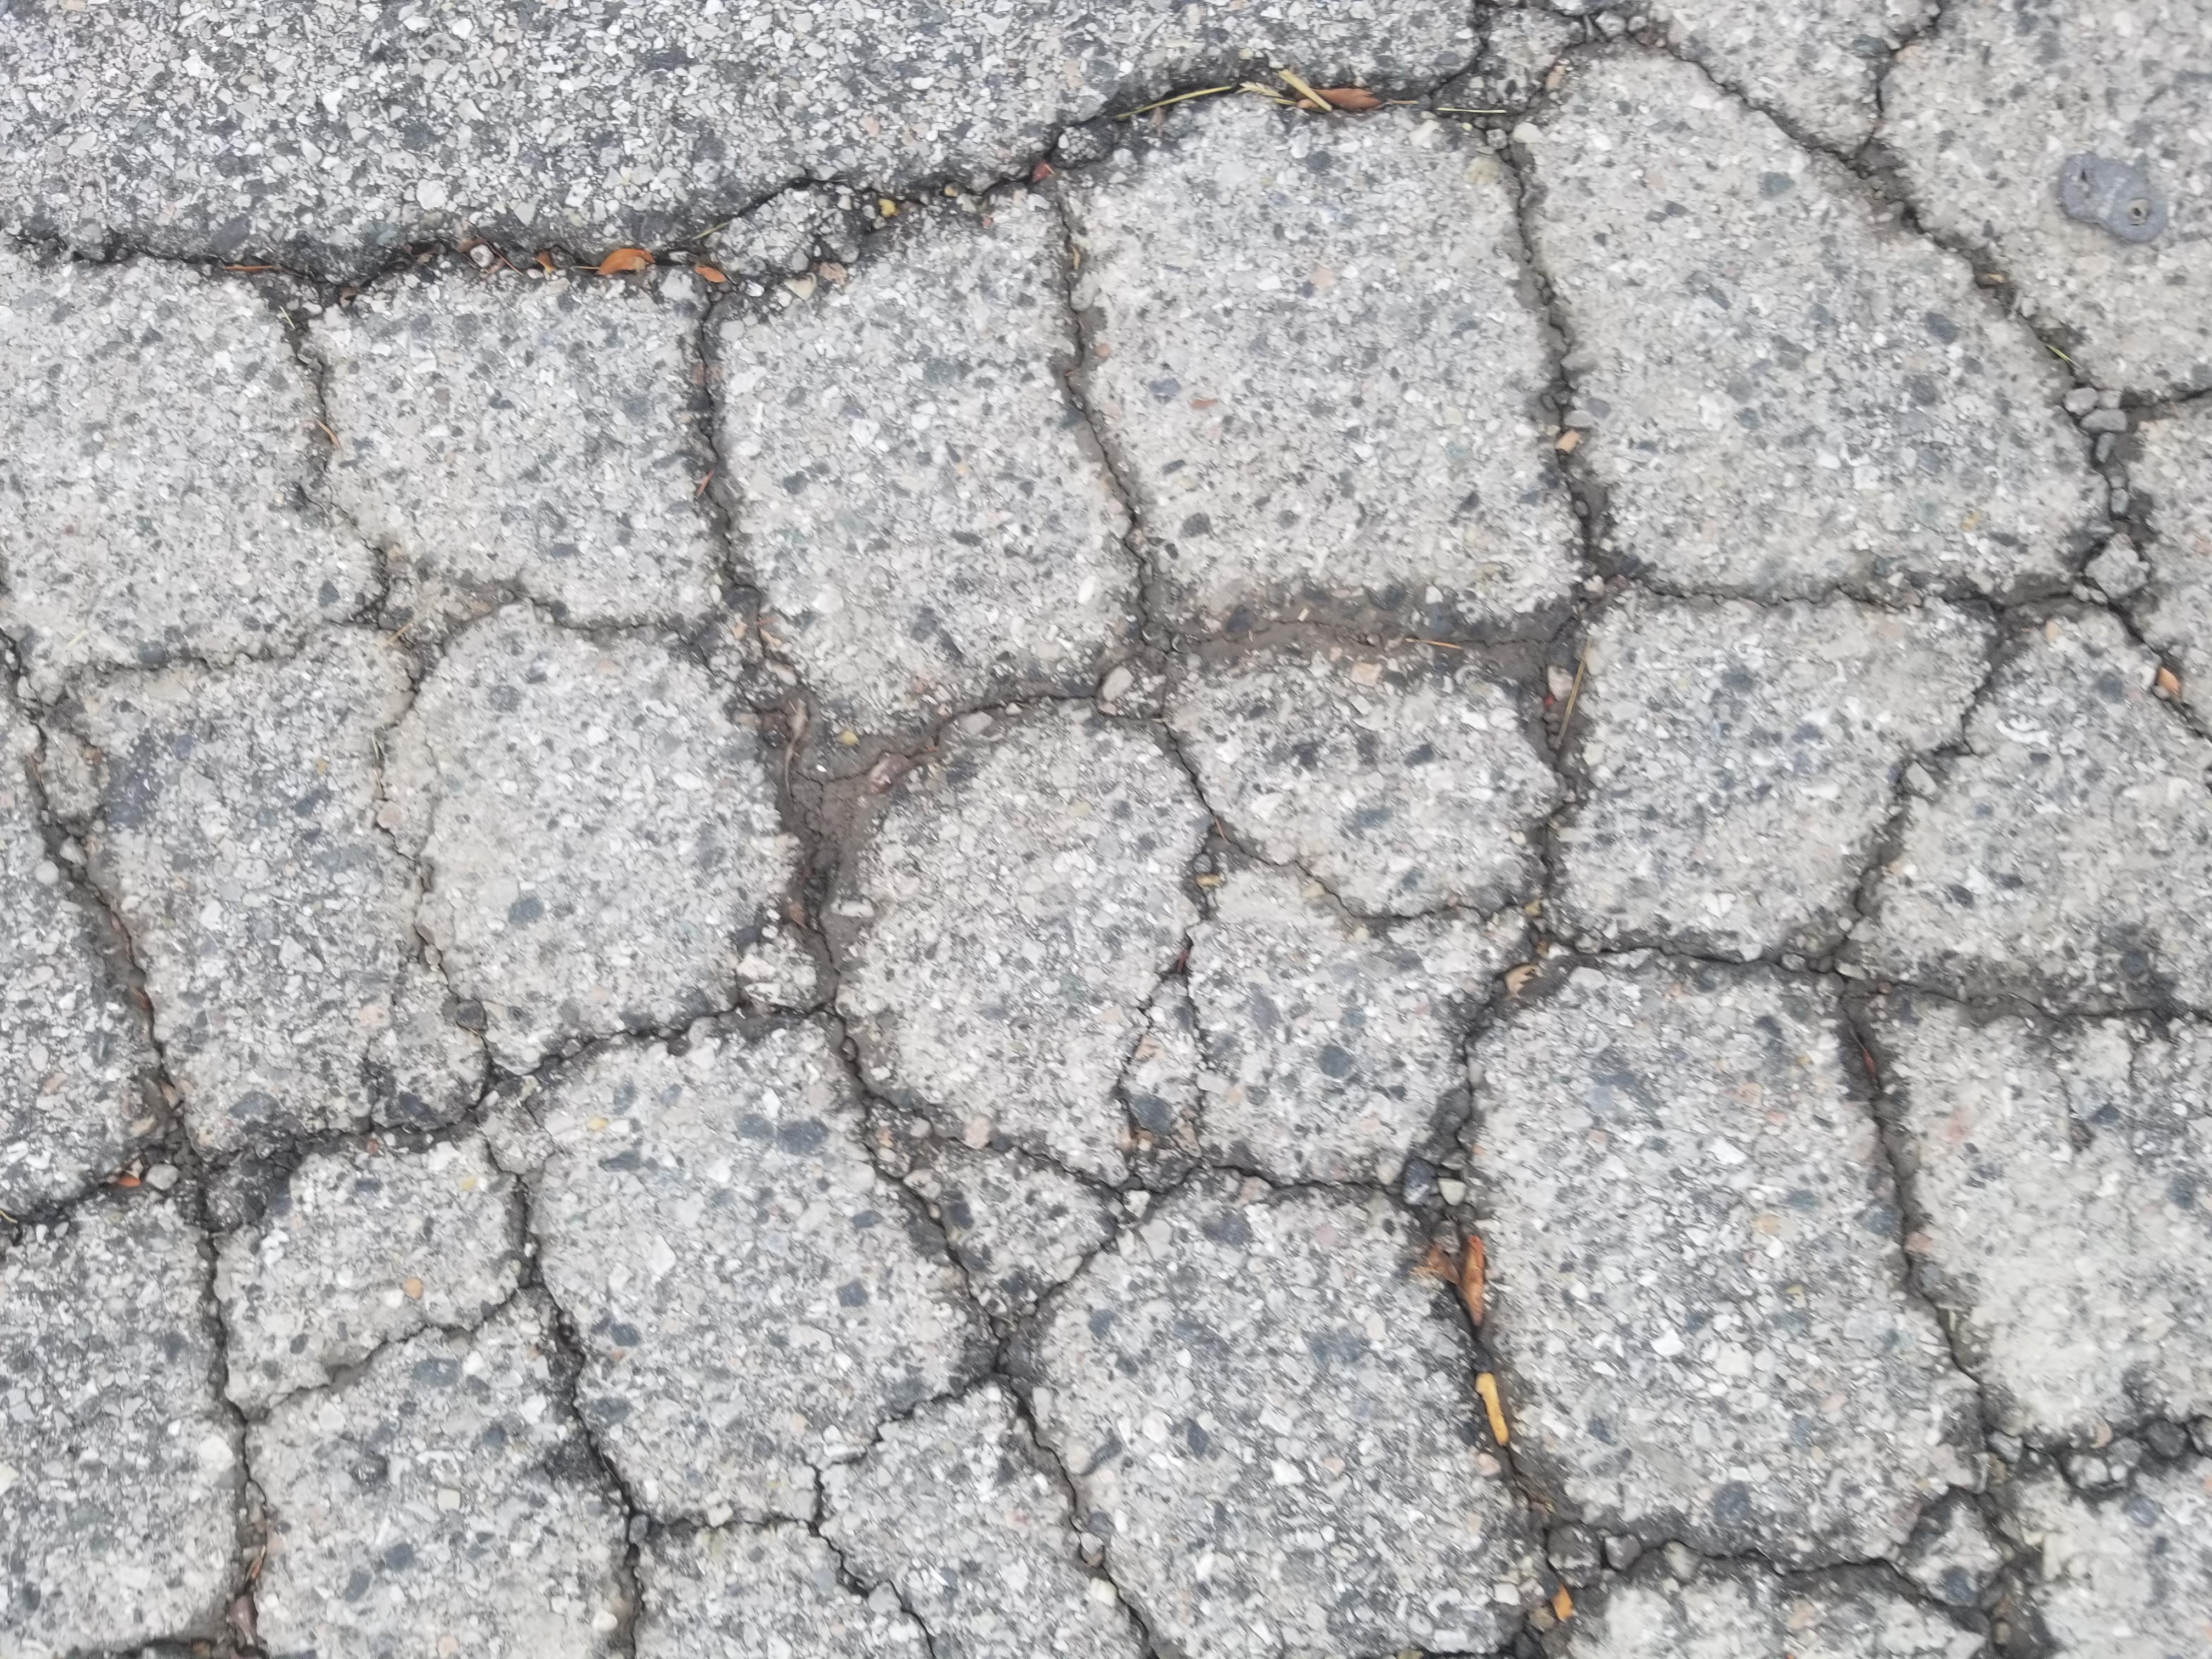alligator-crack: (0, 21, 2212, 1588)
